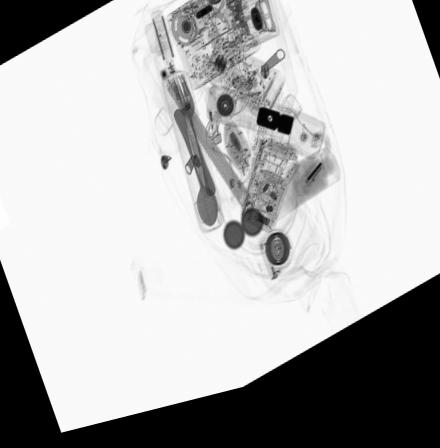Lighter: (231, 82, 261, 105)
